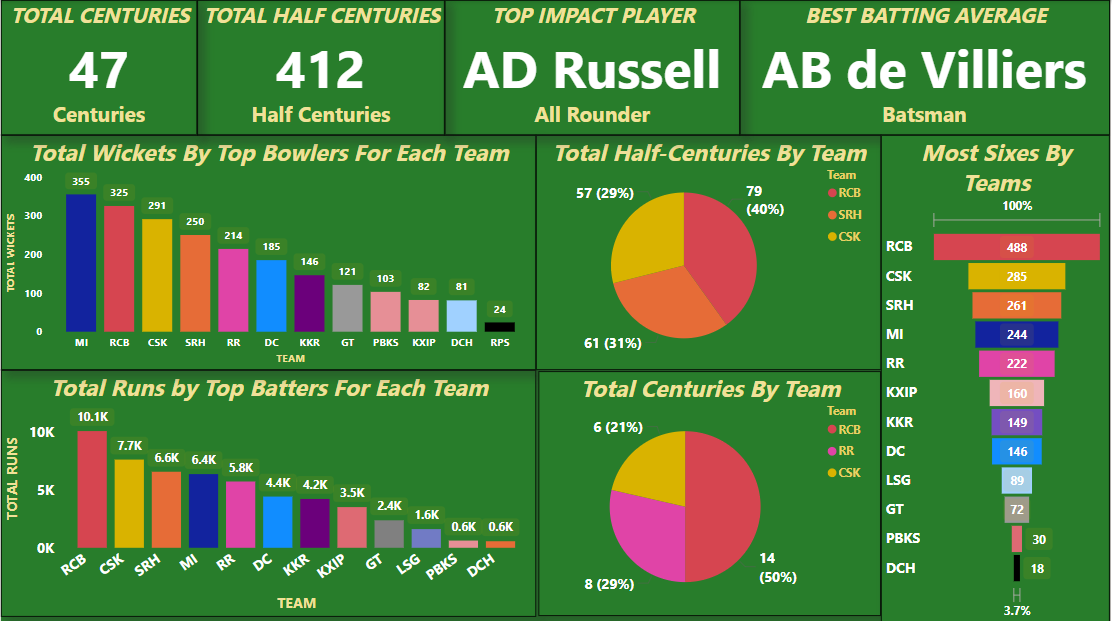

This screenshot's page, from the dashboard's own definition file:
{"tool":"powerbi","page":{"name":"Page 2","canvas":[1280,720],"ordinal":1},"visuals":[{"type":"clusteredColumnChart","title":"Total Runs by Top Batters For Each Team","fields":{"Category":["TotalRunsByTopScorers.Team"],"Y":["TotalRunsByTopScorers.TotalOfRuns"]},"box":[0,427.1,617.5,285],"z":0},{"type":"clusteredColumnChart","title":"Total Wickets By Top Bowlers For Each Team","fields":{"Category":["TotalWicksByTopBowlers.Team"],"Y":["TotalWicksByTopBowlers.TotalOfWicks"]},"box":[0,155.8,617.5,271.2],"z":1000},{"type":"pieChart","title":"Total Half-Centuries By Team","fields":{"Category":["IPLTeamsBat.Team"],"Y":["Total50sByTeam.Total50s"]},"box":[617.5,155.8,398.2,271.2],"z":2000},{"type":"pieChart","title":"Total Centuries By Team","fields":{"Category":["IPLTeamsBat.Team"],"Y":["Total100sByTeam.Total100s"]},"box":[620.4,428.5,395.3,282.8],"z":3000},{"type":"card","title":"TOTAL CENTURIES","fields":{"Values":["Total100sByTeam.Total100s"]},"box":[0,0,226.5,155.8],"z":4000},{"type":"card","title":"TOTAL HALF CENTURIES","fields":{"Values":["Total50sByTeam.Total50s"]},"box":[226.5,0,285.7,155.8],"z":5000},{"type":"card","title":"TOP IMPACT PLAYER","fields":{"Values":["ImpactPlayers.PlayerName"]},"box":[512.2,0,340.5,155.8],"z":6000},{"type":"card","title":"BEST BATTING AVERAGE","fields":{"Values":["AllTimeBestBatAvg.PlayerName"]},"box":[852.7,0,427.1,155.8],"z":7000},{"type":"funnel","title":"Most Sixes By Teams","fields":{"Category":["IPLTeamsBat.Team"],"Y":["MostSixesByTeam.TotalSixes"]},"box":[1015.7,155.8,264,564.1],"z":8000}]}

Visuals, with their boxes in screenshot pixels (x1, y1, x2, y2), scaled from the page's 1280x720 canvas onto the 1112x621 screenshot:
"Total Runs by Top Batters For Each Team" clusteredColumnChart: locate(0, 368, 536, 614)
"Total Wickets By Top Bowlers For Each Team" clusteredColumnChart: locate(0, 134, 536, 368)
"Total Half-Centuries By Team" pieChart: locate(536, 134, 882, 368)
"Total Centuries By Team" pieChart: locate(539, 370, 882, 613)
"TOTAL CENTURIES" card: locate(0, 0, 197, 134)
"TOTAL HALF CENTURIES" card: locate(197, 0, 445, 134)
"TOP IMPACT PLAYER" card: locate(445, 0, 741, 134)
"BEST BATTING AVERAGE" card: locate(741, 0, 1111, 134)
"Most Sixes By Teams" funnel: locate(882, 134, 1111, 620)
